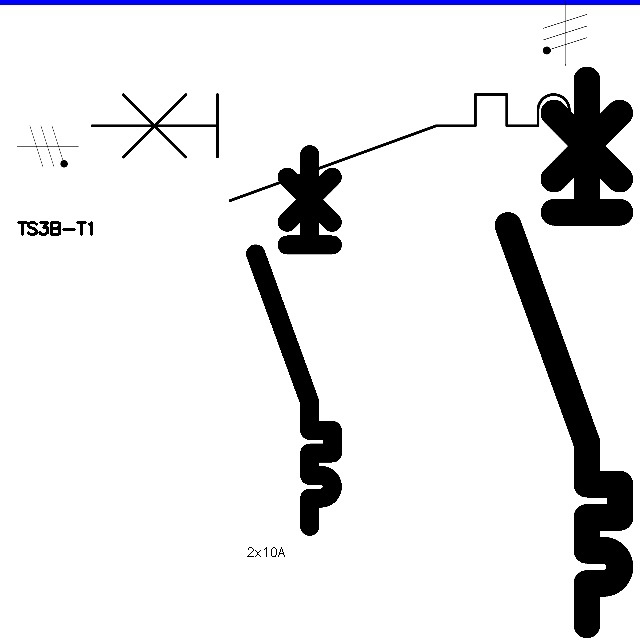interruptor_termomagnetico: (494, 65, 634, 638), (78, 81, 622, 214), (246, 145, 342, 536)
